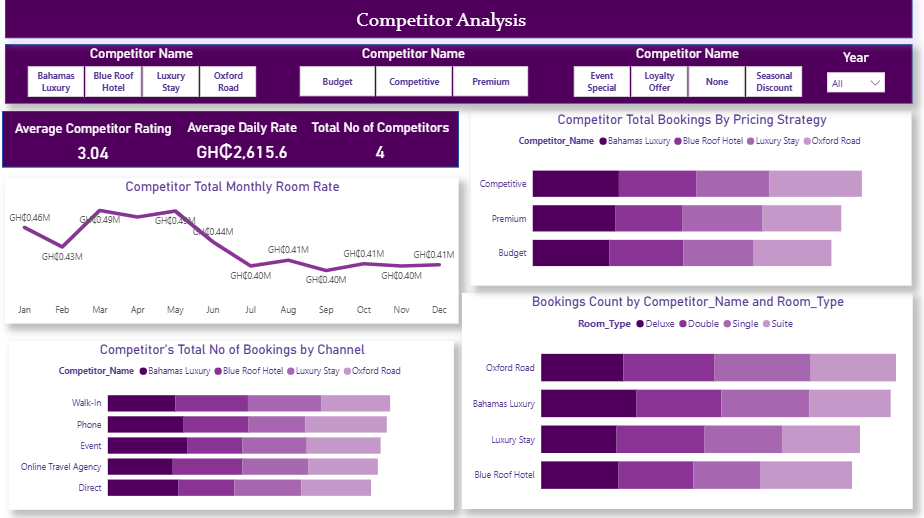

What the dashboard file says about the page in this screenshot:
{"tool":"powerbi","page":{"name":"Competitor Analysis","canvas":[1280,720],"ordinal":2},"visuals":[{"type":"lineChart","title":"Competitor Total Monthly Room Rate","fields":{"Y":["Measures Table.Total Competitor Rate"],"Category":["Date_DIM.Month Name"]},"box":[10.5,251,624.4,200.2],"z":0},{"type":"barChart","title":"Competitor''s Total No of Bookings by Channel","fields":{"Category":["Channel_DIM.Booking_Channel"],"Y":["Measures Table.Bookings Count"],"Series":["Competitor_DIM.Competitor_Name"]},"box":[16.4,475,612.4,231.5],"z":1000},{"type":"barChart","fields":{"Category":["Competitor_DIM.Competitor_Name"],"Y":["Measures Table.Bookings Count"],"Series":["Booking_Table.Room_Type"]},"box":[639.3,409.3,619.9,297.3],"z":2000},{"type":"shape","box":[7.5,158.3,628.9,77.7],"z":3000},{"type":"barChart","title":"Competitor Total Bookings By Pricing Strategy","fields":{"Category":["Competitor_DIM.Competitor_Pricing_Strategy"],"Y":["Measures Table.Bookings Count"],"Series":["Competitor_DIM.Competitor_Name"]},"box":[652.8,158.3,606.5,240.5],"z":4000},{"type":"card","title":"Total No of Competitors","fields":{"Values":["Measures Table.Total Competitors"]},"box":[427.2,170.3,201.7,65.7],"z":5000},{"type":"card","title":"Average Competitor Rating","fields":{"Values":["Measures Table.Average Competitor Rating"]},"box":[16.4,171.8,231.5,64.2],"z":6000},{"type":"card","title":"Average Daily Rate","fields":{"Values":["Measures Table.Avg Competitor Daily Rate"]},"box":[248,170.3,179.3,65.7],"z":7000},{"type":"shape","box":[10.5,65.7,1248.8,82.2],"z":8000},{"type":"shape","box":[10.5,0,1248.8,58],"z":9000},{"type":"slicer","title":"Competitor Name","fields":{"Values":["Competitor_DIM.Competitor_Name"]},"box":[16.4,68.7,364.5,76.2],"z":10000},{"type":"slicer","title":"Competitor Name","fields":{"Values":["Competitor_DIM.Competitor_Pricing_Strategy"]},"box":[391.4,68.7,364.5,76.2],"z":11000},{"type":"slicer","title":"Competitor Name","fields":{"Values":["Competitor_DIM.Competitor_Promotions"]},"box":[767.8,68.7,364.5,76.2],"z":12000},{"type":"slicer","title":"Year","fields":{"Values":["Date_DIM.Year"]},"box":[1132.3,74.7,98.6,65.7],"z":13000},{"type":"textbox","box":[100.1,10.5,1021.7,47.8],"z":14000}]}

Visuals, with their boxes in screenshot pixels (x1, y1, x2, y2), scaled from the page's 1280x720 canvas onto the 924x518 screenshot:
"Competitor Total Monthly Room Rate" lineChart: (x1=8, y1=181, x2=458, y2=325)
"Competitor''s Total No of Bookings by Channel" barChart: (x1=12, y1=342, x2=454, y2=508)
barChart - Competitor_DIM.Competitor_Name x Measures Table.Bookings Count: (x1=461, y1=294, x2=909, y2=508)
shape: (x1=5, y1=114, x2=459, y2=170)
"Competitor Total Bookings By Pricing Strategy" barChart: (x1=471, y1=114, x2=909, y2=287)
"Total No of Competitors" card: (x1=308, y1=123, x2=454, y2=170)
"Average Competitor Rating" card: (x1=12, y1=124, x2=179, y2=170)
"Average Daily Rate" card: (x1=179, y1=123, x2=308, y2=170)
shape: (x1=8, y1=47, x2=909, y2=106)
shape: (x1=8, y1=0, x2=909, y2=42)
"Competitor Name" slicer: (x1=12, y1=49, x2=275, y2=104)
"Competitor Name" slicer: (x1=283, y1=49, x2=546, y2=104)
"Competitor Name" slicer: (x1=554, y1=49, x2=817, y2=104)
"Year" slicer: (x1=817, y1=54, x2=889, y2=101)
textbox: (x1=72, y1=8, x2=810, y2=42)
